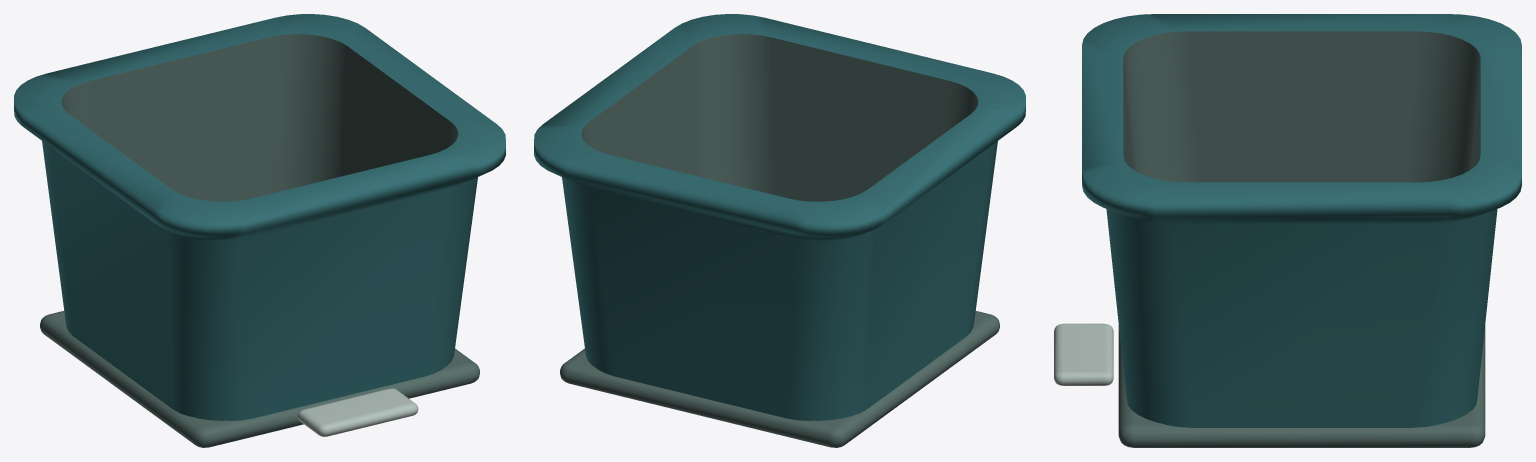
The model's file is station-bin.obj.
3 renders of one model, left to right at view 1: azimuth 30°, elevation 25°; view 2: azimuth 150°, elevation 25°; view 3: azimuth 270°, elevation 25°, orthographic. The views are drawn at different scales.
Parts seen in each view (by area): view 1: station-bin_teal, station-bin_darkMetal, station-bin_metal; view 2: station-bin_teal, station-bin_darkMetal; view 3: station-bin_teal, station-bin_darkMetal, station-bin_metal.
Part boxes in pixels (box(x1,y1,x2,y2)): station-bin_teal: box(14, 14, 505, 420); station-bin_darkMetal: box(40, 34, 479, 447); station-bin_metal: box(297, 388, 418, 436); station-bin_teal: box(534, 14, 1025, 420); station-bin_darkMetal: box(560, 34, 999, 447); station-bin_teal: box(1082, 14, 1521, 427); station-bin_darkMetal: box(1118, 31, 1485, 447); station-bin_metal: box(1054, 323, 1113, 385).
Size of the model in its own units: 0.48 by 0.323 by 0.5105.
